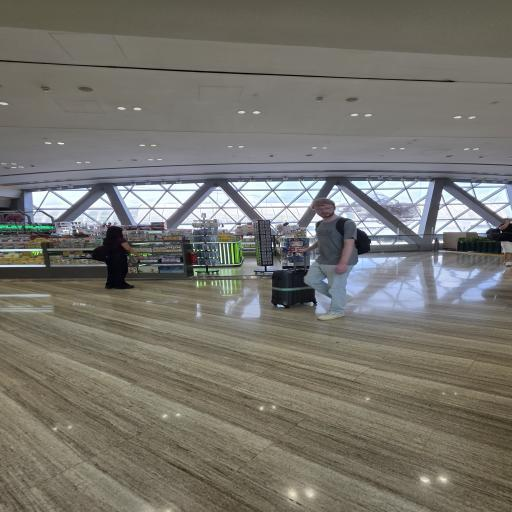person_right: (94, 220, 150, 290)
person_with_luggage_right: (268, 190, 371, 318)
